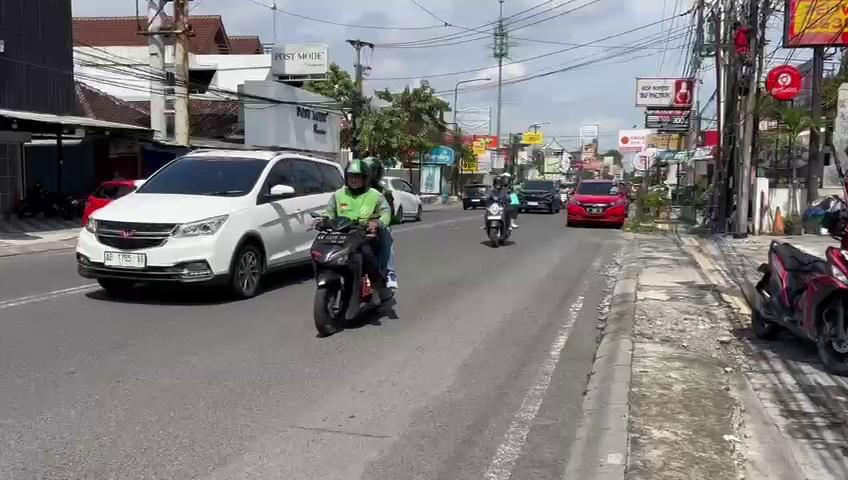helm: (343, 155, 371, 195)
riding: (300, 152, 413, 343)
